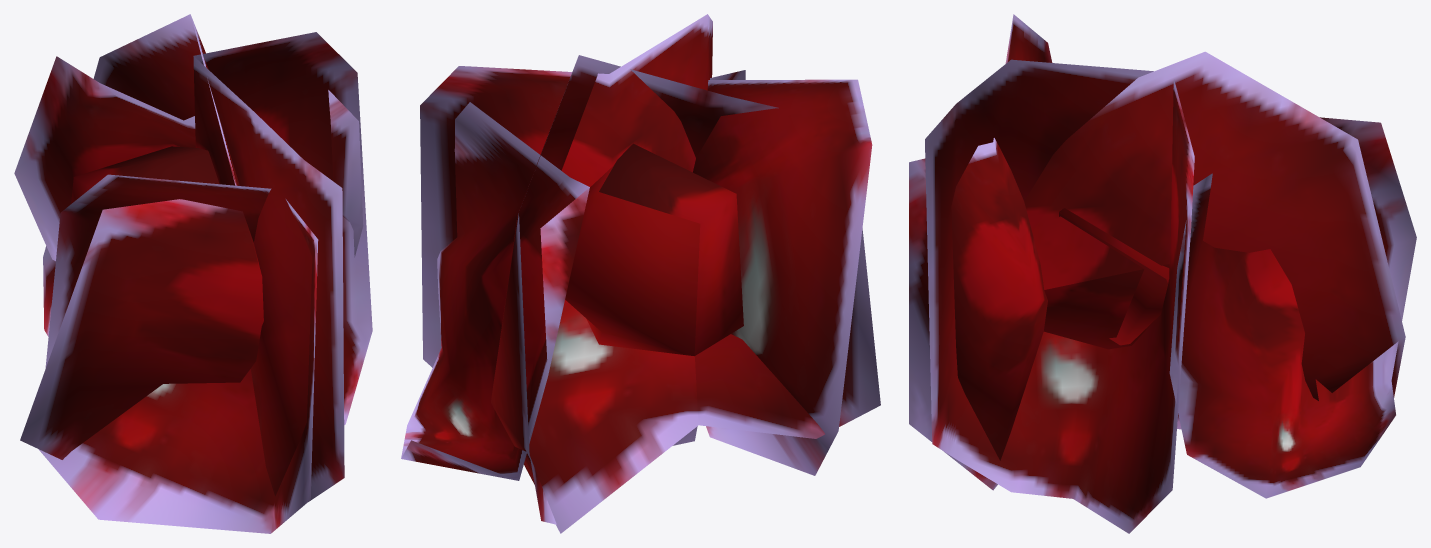
The model's file is Zombie_Broken_Normal_Head02_af4d5a93__Zombie_Broken_Purple_cee75a00_c1f257.obj.
The picture shows the model from 3 angles, left to right: view 1: azimuth 30°, elevation 25°; view 2: azimuth 150°, elevation 25°; view 3: azimuth 270°, elevation 25°; orthographic projection. The views are drawn at different scales.
Size of the model in its own units: 0.7065 by 0.7457 by 0.7616.
1 material, 1 textured.
